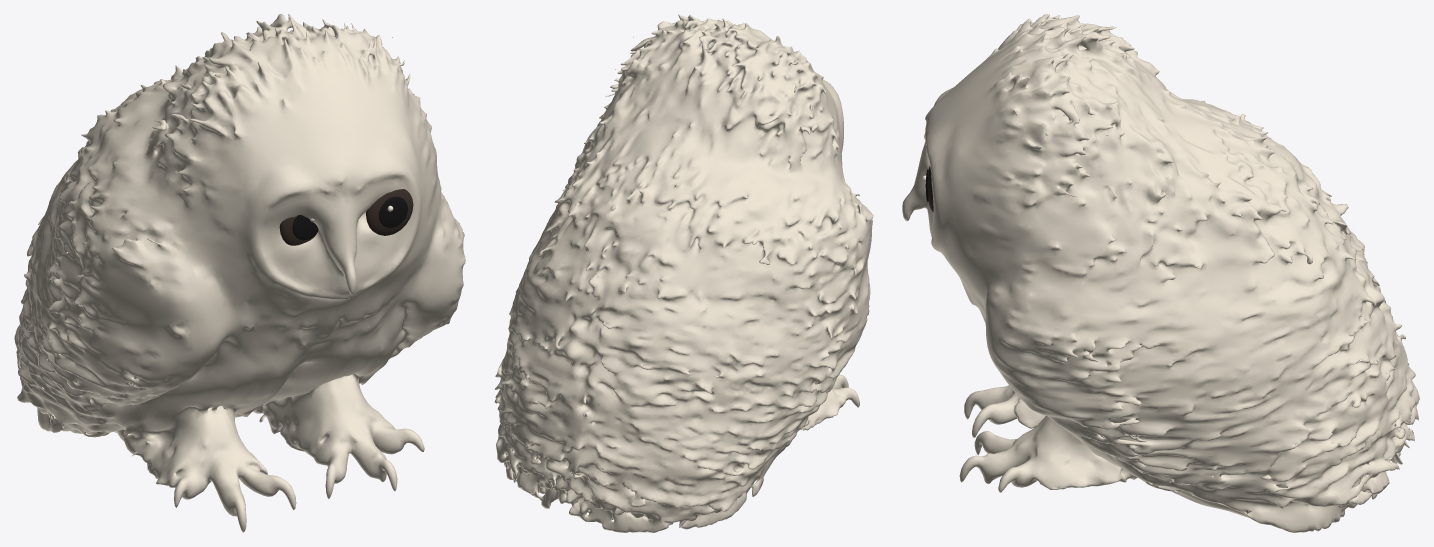
The model's file is run110_eyes_only_ART_UNAPPROVED.glb.
The picture shows the model from 3 angles, left to right: view 1: azimuth 30°, elevation 25°; view 2: azimuth 150°, elevation 25°; view 3: azimuth 270°, elevation 25°; orthographic projection. The views are drawn at different scales.
Visible parts, largest first — view 1: actual_neural_juvenile_sculpt_softened_RESEARCH_ONLY, real_socket_registered_dark_open_eye_1, nested_small_pupil_1; view 2: actual_neural_juvenile_sculpt_softened_RESEARCH_ONLY; view 3: actual_neural_juvenile_sculpt_softened_RESEARCH_ONLY.
Boxes of the visible parts, box(x1,y1,x2,y2) form: actual_neural_juvenile_sculpt_softened_RESEARCH_ONLY: box(14, 14, 465, 532); real_socket_registered_dark_open_eye_1: box(366, 189, 413, 235); nested_small_pupil_1: box(379, 196, 407, 227); actual_neural_juvenile_sculpt_softened_RESEARCH_ONLY: box(494, 14, 873, 532); actual_neural_juvenile_sculpt_softened_RESEARCH_ONLY: box(902, 14, 1419, 532).
Size of the model in its own units: 1.54 by 1.9 by 1.95.
